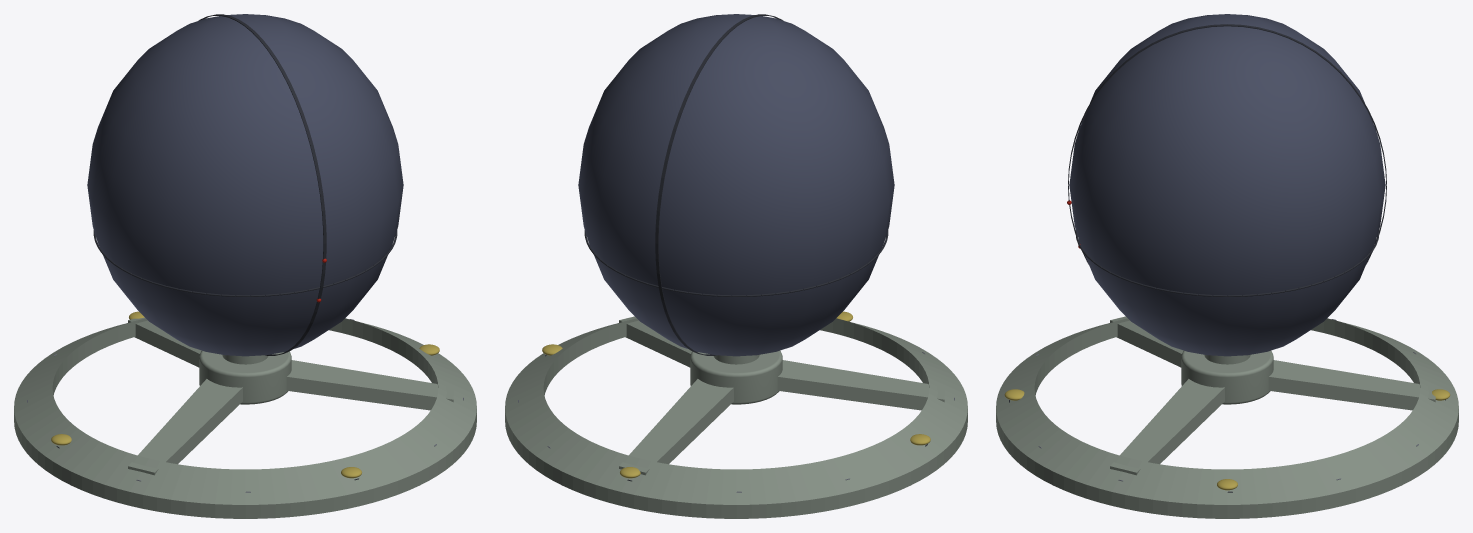
File: gravity-nullifier.glb
3 views of the same model, side by side, from view 1: azimuth 30°, elevation 25°; view 2: azimuth 150°, elevation 25°; view 3: azimuth 270°, elevation 25° (orthographic).
Parts seen in each view (by area): view 1: Central segmented field orb, Research open mounting outer ring, Research open base spoke 2, Research open base spoke 1, Research base central hub, Research narrow vertical meridian, Research open base spoke 0; view 2: Central segmented field orb, Research open mounting outer ring, Research open base spoke 1, Research open base spoke 0, Research base central hub, Research narrow vertical meridian, Research open base spoke 2; view 3: Central segmented field orb, Research open mounting outer ring, Research open base spoke 0, Research open base spoke 2, Research base central hub, Research narrow vertical meridian, Research open base spoke 1.
Part boxes in pixels (x1,y1,x2,y2): Central segmented field orb: (87, 14, 403, 356); Research open mounting outer ring: (14, 318, 476, 518); Research open base spoke 2: (286, 360, 453, 410); Research open base spoke 1: (128, 379, 242, 475); Research base central hub: (199, 350, 291, 404); Research narrow vertical meridian: (198, 14, 326, 355); Research open base spoke 0: (128, 317, 201, 367); Central segmented field orb: (578, 14, 894, 356); Research open mounting outer ring: (505, 318, 967, 518); Research open base spoke 1: (777, 360, 944, 410); Research open base spoke 0: (619, 379, 733, 475); Research base central hub: (690, 350, 782, 404); Research narrow vertical meridian: (655, 14, 783, 355); Research open base spoke 2: (619, 316, 691, 367); Central segmented field orb: (1069, 14, 1385, 356); Research open mounting outer ring: (996, 318, 1458, 518); Research open base spoke 0: (1268, 360, 1435, 410); Research open base spoke 2: (1110, 379, 1224, 475); Research base central hub: (1181, 350, 1273, 404); Research narrow vertical meridian: (1068, 24, 1386, 264); Research open base spoke 1: (1110, 316, 1183, 367).
Bounding box in the file's own units: 2.4 × 2.27 × 2.4.
